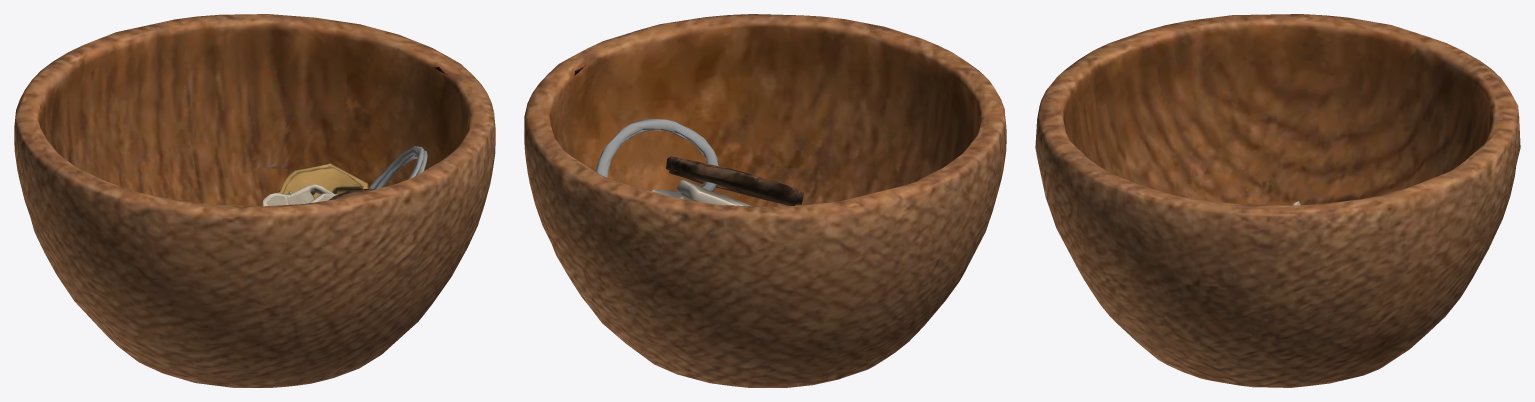
Rendered from mobile.glb.
3 views of the same model, side by side, from view 1: azimuth 30°, elevation 25°; view 2: azimuth 150°, elevation 25°; view 3: azimuth 270°, elevation 25° (orthographic).
Parts seen in each view (by area): view 1: keysbowl; view 2: keysbowl; view 3: keysbowl.
Boxes of the visible parts, bbox=[...] form: keysbowl: bbox=[14, 14, 495, 387]; keysbowl: bbox=[524, 14, 1006, 387]; keysbowl: bbox=[1035, 14, 1520, 387].
Size of the model in its own units: 0.1599 by 0.0814 by 0.1609.
1 material, 1 textured.
